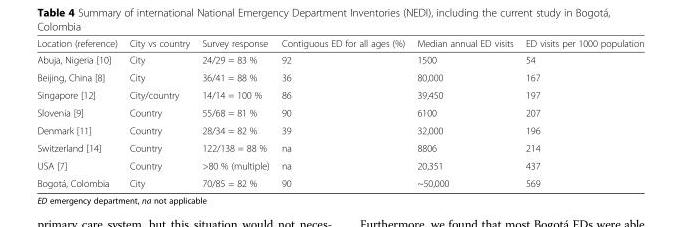table: (36, 37, 643, 188)
table column: (274, 37, 410, 188), (518, 37, 643, 188), (410, 37, 518, 188), (36, 37, 122, 188), (195, 37, 274, 188), (122, 37, 195, 188)
table column header: (36, 37, 643, 51)
table row: (36, 85, 643, 103), (36, 103, 643, 121), (36, 138, 643, 156), (36, 156, 643, 174), (36, 51, 643, 68), (36, 68, 643, 85), (36, 121, 643, 138), (36, 37, 643, 51), (36, 174, 643, 188)
